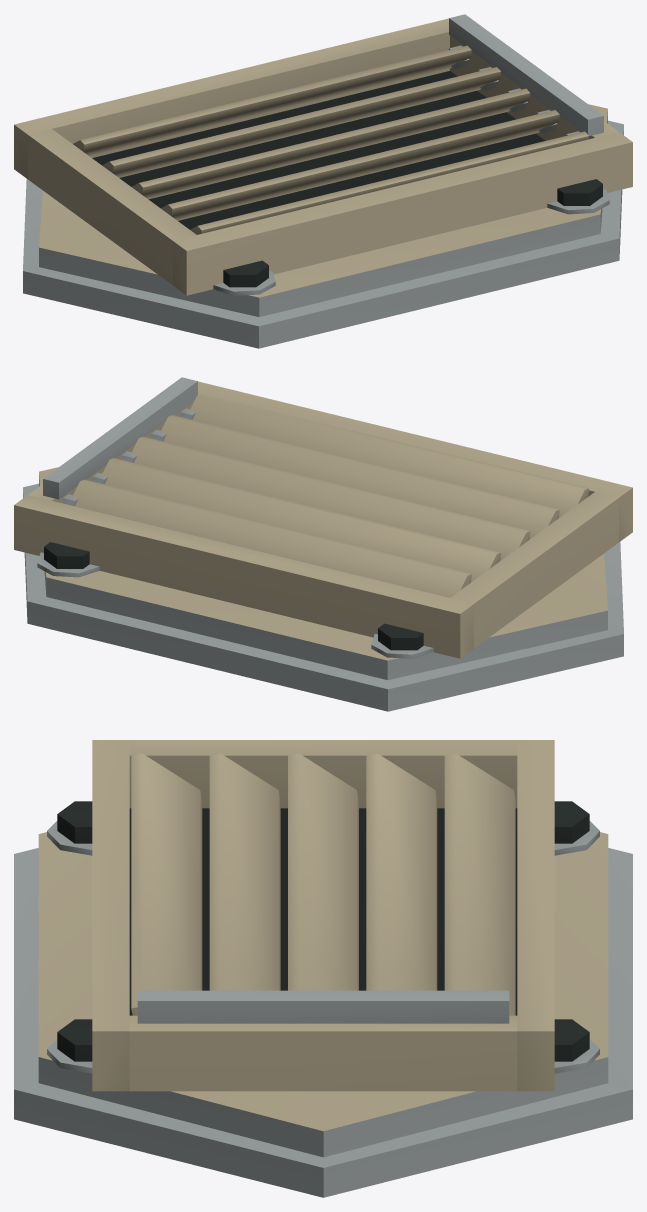
The model's file is panel_louvre.glb.
3 views of the same model, one above another, from view 1: azimuth 30°, elevation 25°; view 2: azimuth 150°, elevation 25°; view 3: azimuth 270°, elevation 25° (orthographic). The views are drawn at different scales.
Visible parts, largest first — view 1: panel_louvre; view 2: panel_louvre; view 3: panel_louvre.
Part boxes in pixels (<box>): panel_louvre: <box>14,14,632,348</box>; panel_louvre: <box>14,377,632,711</box>; panel_louvre: <box>14,740,632,1197</box>.
Bounding box in the file's own units: 0.45 × 0.074 × 0.3.
